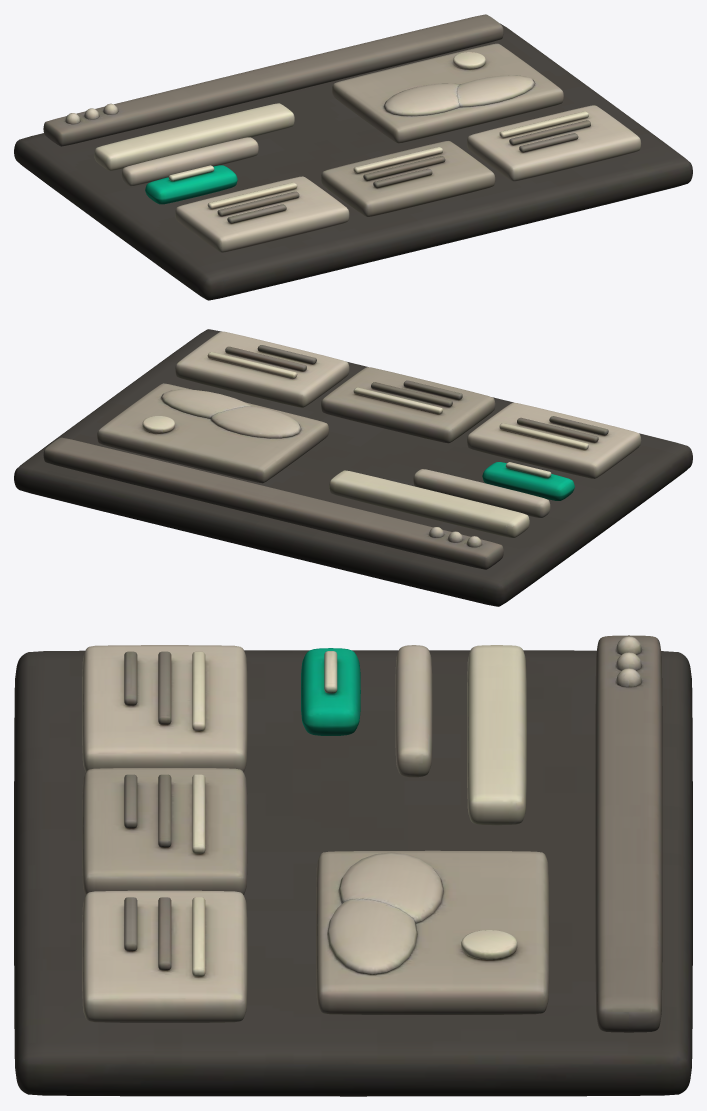
The model's file is site.glb.
3 renders of one model, top to bottom at view 1: azimuth 30°, elevation 25°; view 2: azimuth 150°, elevation 25°; view 3: azimuth 270°, elevation 25°, orthographic. The views are drawn at different scales.
Parts seen in each view (by area): view 1: Base_mesh, Bar_mesh, Picture_mesh, Card_1_mesh, Card_2_mesh, Card_3_mesh, Title_mesh, Subtitle_mesh, Button_mesh; view 2: Base_mesh, Bar_mesh, Picture_mesh, Card_3_mesh, Card_1_mesh, Card_2_mesh, Title_mesh, Subtitle_mesh, Button_mesh; view 3: Base_mesh, Picture_mesh, Bar_mesh, Card_3_mesh, Card_1_mesh, Card_2_mesh, Title_mesh, Button_mesh, Subtitle_mesh.
Part boxes in pixels (box(x1,y1,x2,y2)): Base_mesh: box(14, 23, 692, 300); Bar_mesh: box(43, 14, 503, 146); Picture_mesh: box(332, 43, 563, 143); Card_1_mesh: box(175, 176, 349, 252); Card_2_mesh: box(321, 141, 495, 216); Card_3_mesh: box(467, 105, 641, 181); Title_mesh: box(94, 103, 294, 170); Subtitle_mesh: box(121, 137, 258, 186); Button_mesh: box(145, 165, 237, 204); Base_mesh: box(14, 329, 692, 606); Bar_mesh: box(43, 437, 503, 569); Picture_mesh: box(97, 383, 328, 483); Card_3_mesh: box(175, 331, 349, 407); Card_1_mesh: box(467, 402, 641, 478); Card_2_mesh: box(321, 367, 495, 443); Title_mesh: box(329, 470, 529, 537); Subtitle_mesh: box(413, 469, 550, 517); Button_mesh: box(482, 462, 574, 500); Base_mesh: box(14, 650, 692, 1096); Picture_mesh: box(316, 850, 549, 1014); Bar_mesh: box(595, 635, 662, 1032); Card_3_mesh: box(82, 890, 247, 1022); Card_1_mesh: box(82, 645, 247, 772); Card_2_mesh: box(82, 768, 247, 894); Title_mesh: box(467, 645, 526, 825); Button_mesh: box(301, 648, 360, 735); Subtitle_mesh: box(395, 645, 432, 777).
Bounding box in the file's own units: 2.6 × 0.2676 × 1.8.
1 material, 1 textured.
